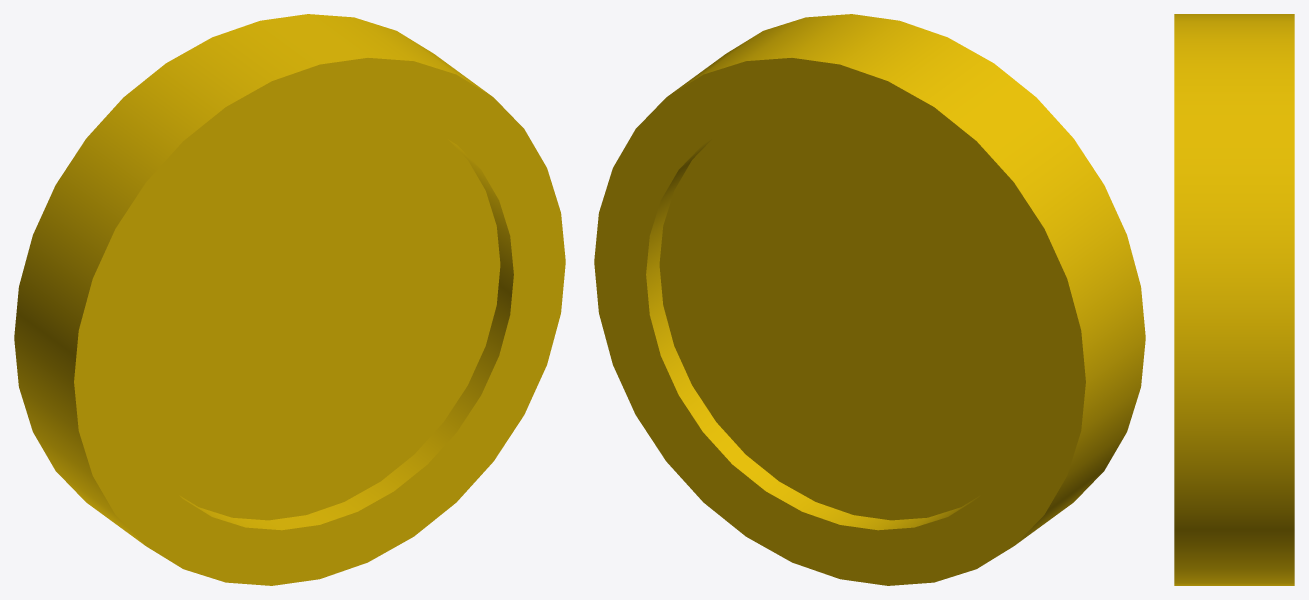
The model's file is Coin_null.fbx.
3 renders of one model, left to right at view 1: azimuth 30°, elevation 25°; view 2: azimuth 150°, elevation 25°; view 3: azimuth 270°, elevation 25°, orthographic.
Visible parts, largest first — view 1: Coin_null; view 2: Coin_null; view 3: Coin_null.
Boxes of the visible parts, x1,y1,x2,y2 form: Coin_null: (14,14,565,585); Coin_null: (594,14,1145,585); Coin_null: (1174,14,1294,585).
Size of the model in its own units: 1.36 by 0.2857 by 1.36.
